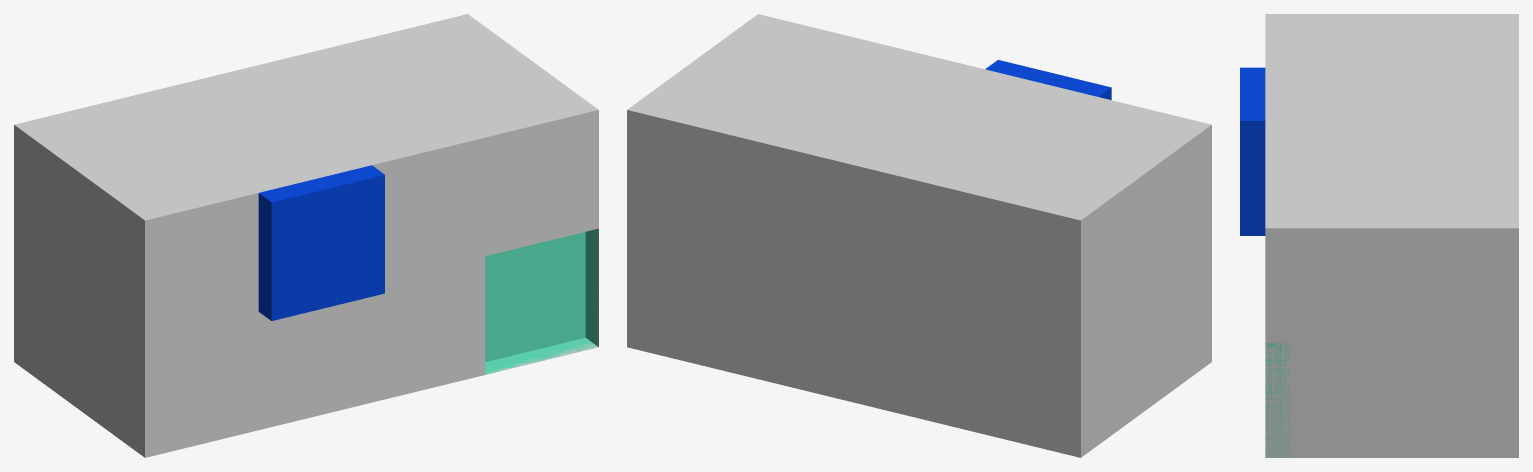
Rendered from Wall2_2x1.fbx.
The picture shows the model from 3 angles, left to right: view 1: azimuth 30°, elevation 25°; view 2: azimuth 150°, elevation 25°; view 3: azimuth 270°, elevation 25°; orthographic projection. The views are drawn at different scales.
Parts seen in each view (by area): view 1: Wall2 2x1; view 2: Wall2 2x1; view 3: Wall2 2x1.
Part boxes in pixels (left/top/right/bottom): Wall2 2x1: left=14, top=14, right=598, bottom=457; Wall2 2x1: left=627, top=14, right=1211, bottom=457; Wall2 2x1: left=1240, top=14, right=1518, bottom=457.
Bounding box in the file's own units: 200 × 100 × 110.
